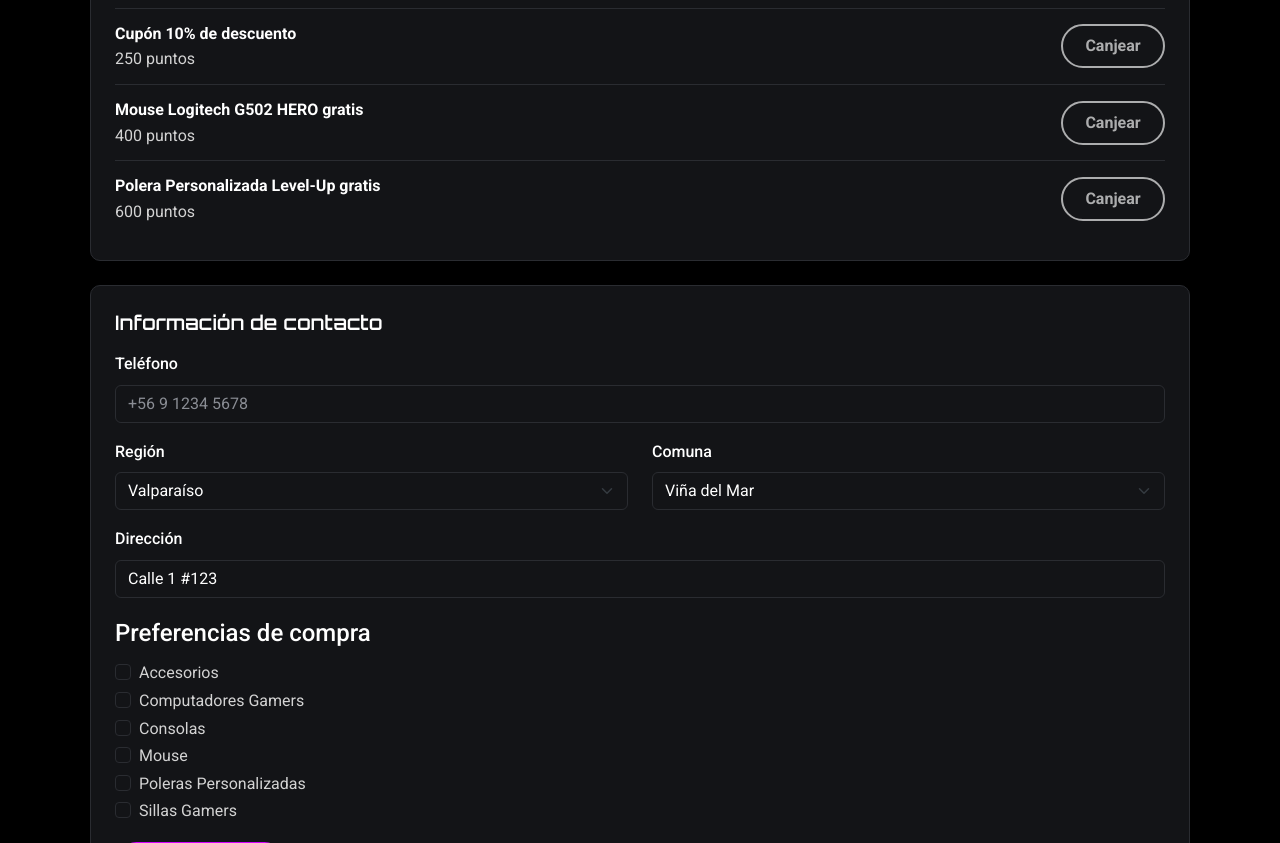
<Perfil /> (perfil, fidelización y edición de datos) › guardar cambios actualiza teléfono, dirección, ubicación y preferencias
The width and height of the screenshot is (1280, 843).
(page scrolled)
In the field labelled "Teléfono": (640, 404) [115, 385, 1165, 423], type " +56 9 1111 2222 "
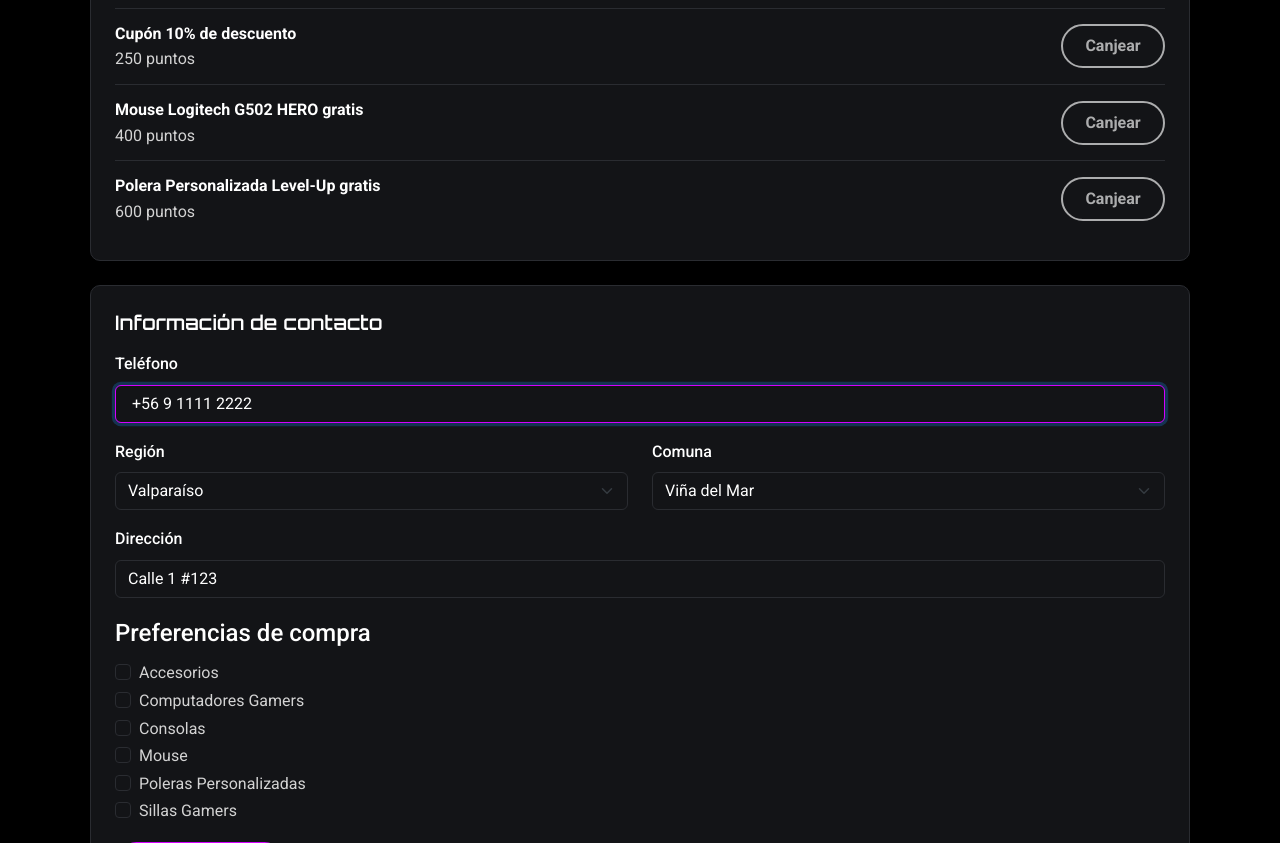
Replace the text in the field labelled "Dirección" with "Nueva 456": (640, 579) [115, 560, 1165, 598]
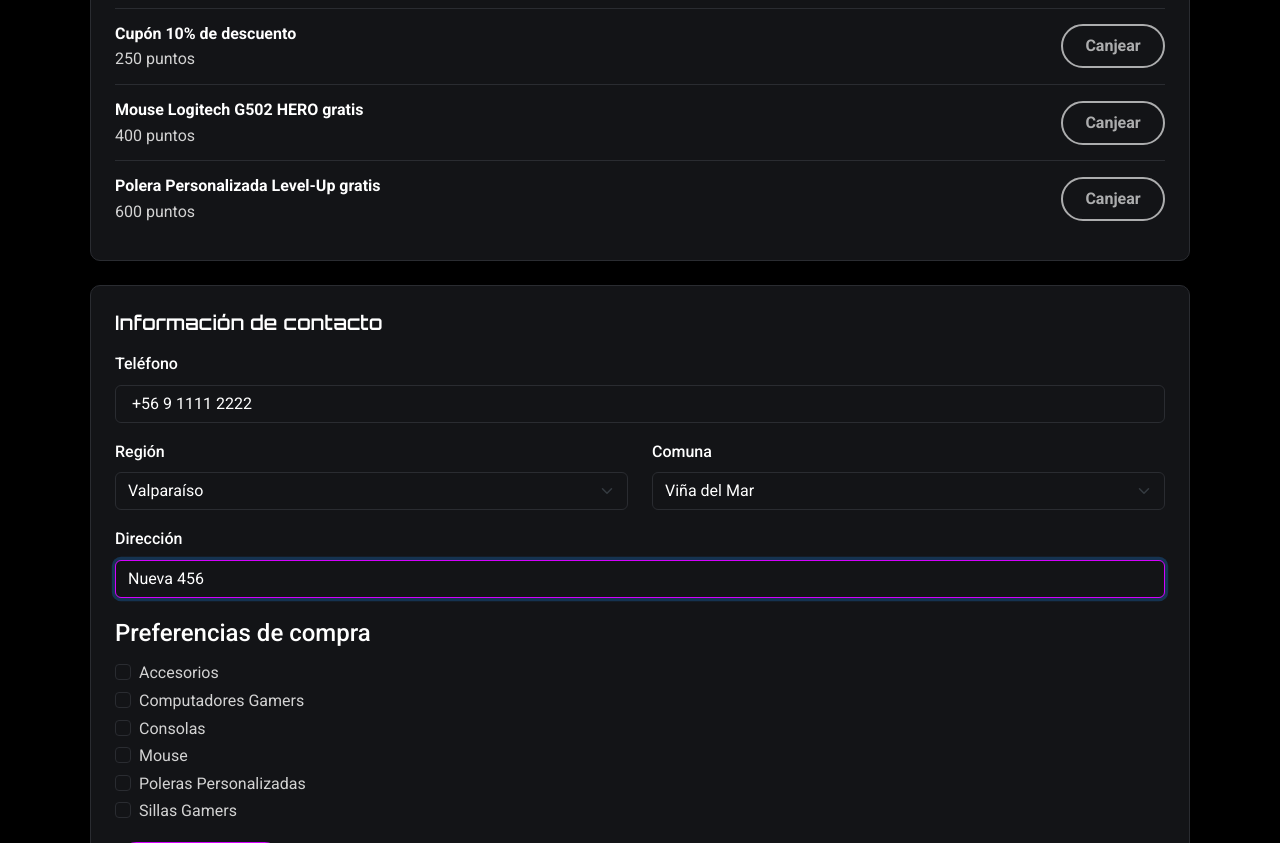
Select "Coquimbo" in the dropdown labelled "Región": (372, 492) [115, 472, 628, 510]
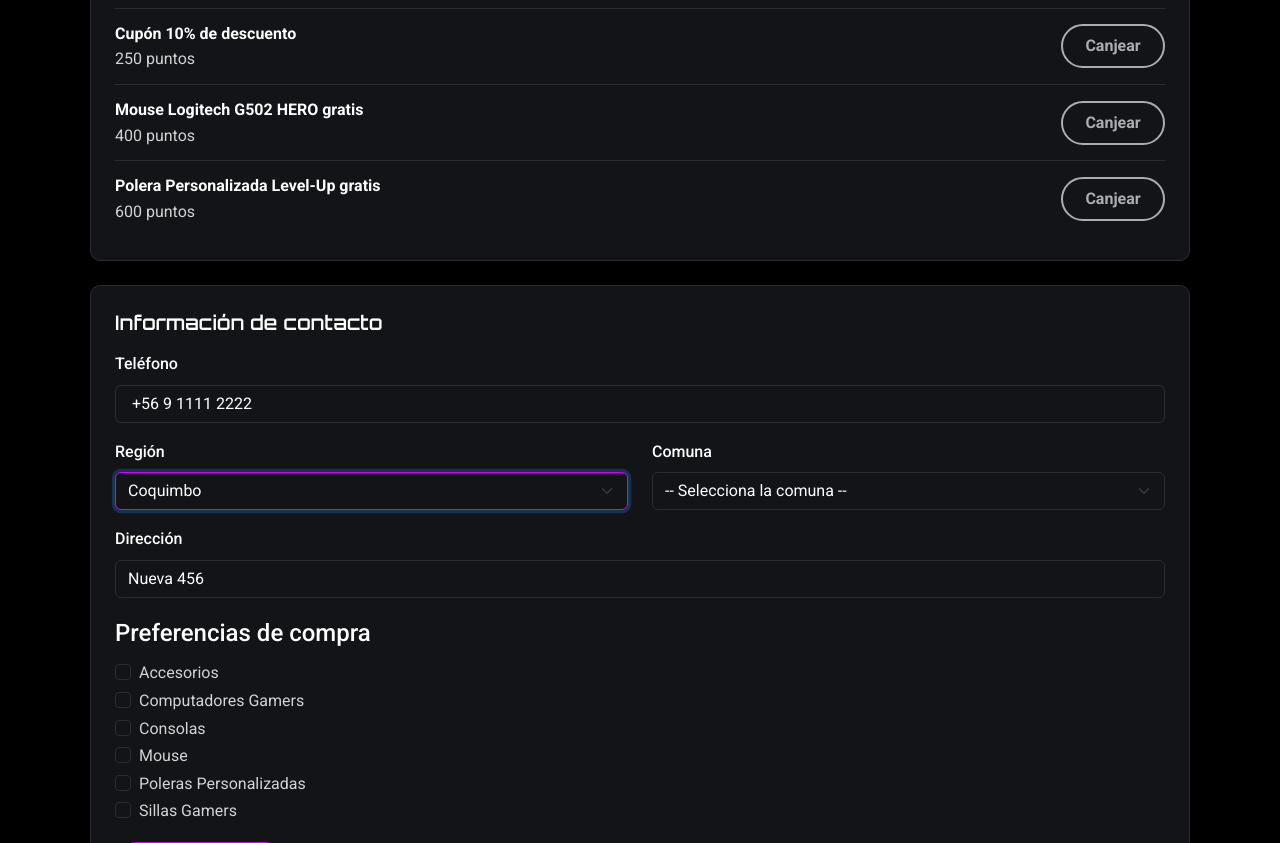
Select "La Serena" in the dropdown labelled "Comuna": (908, 492) [652, 472, 1165, 510]
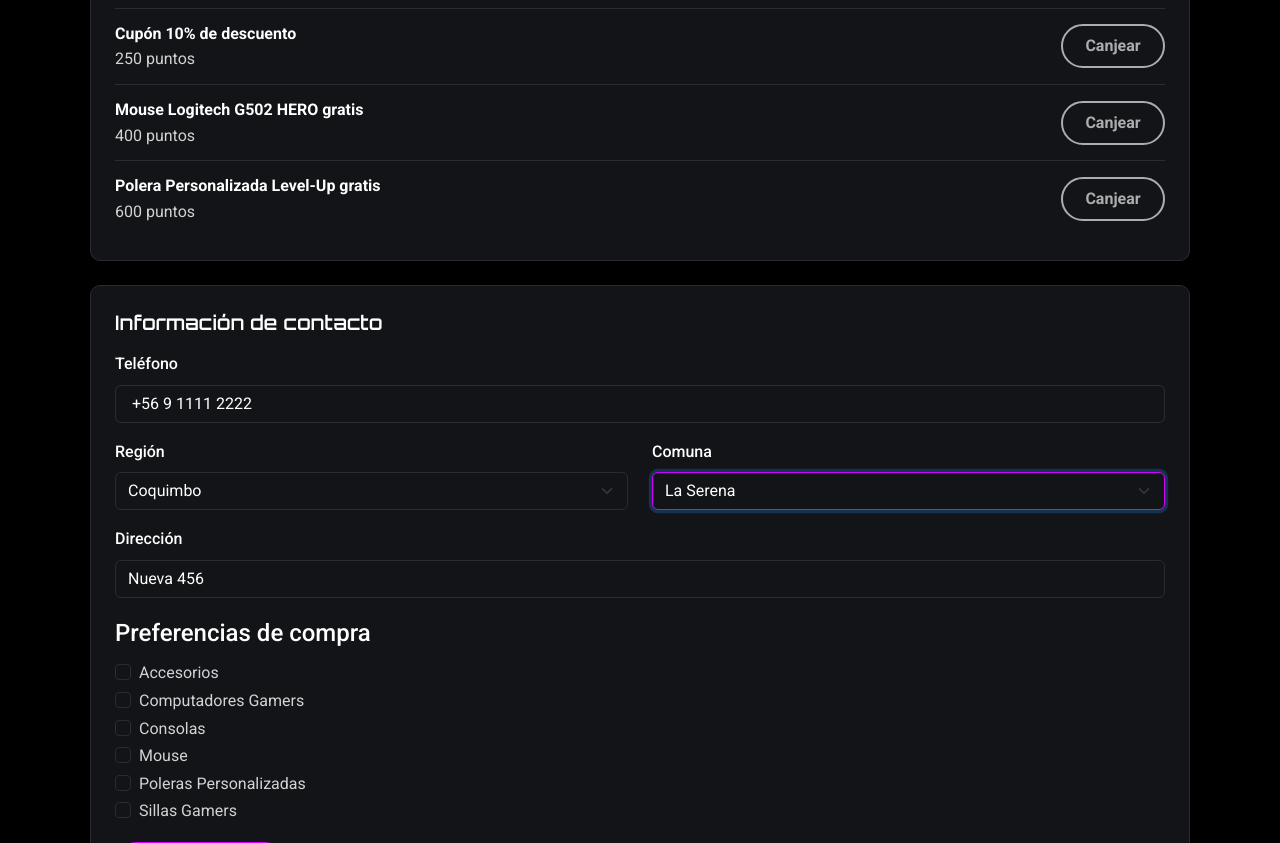
Click the checkbox labelled "Mouse": (123, 755) [115, 747, 131, 763]
(page scrolled)
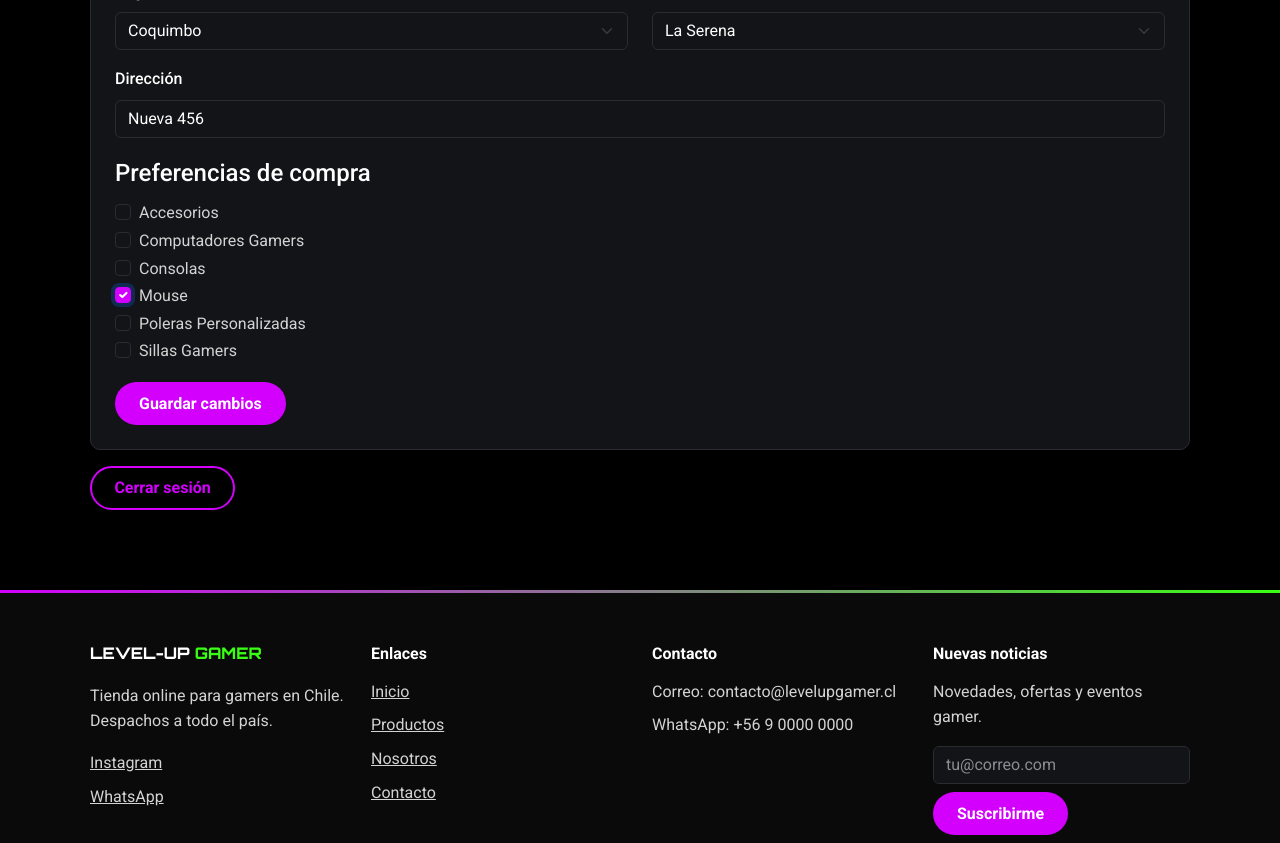
Click the button "Guardar cambios": (200, 404) [115, 382, 286, 425]
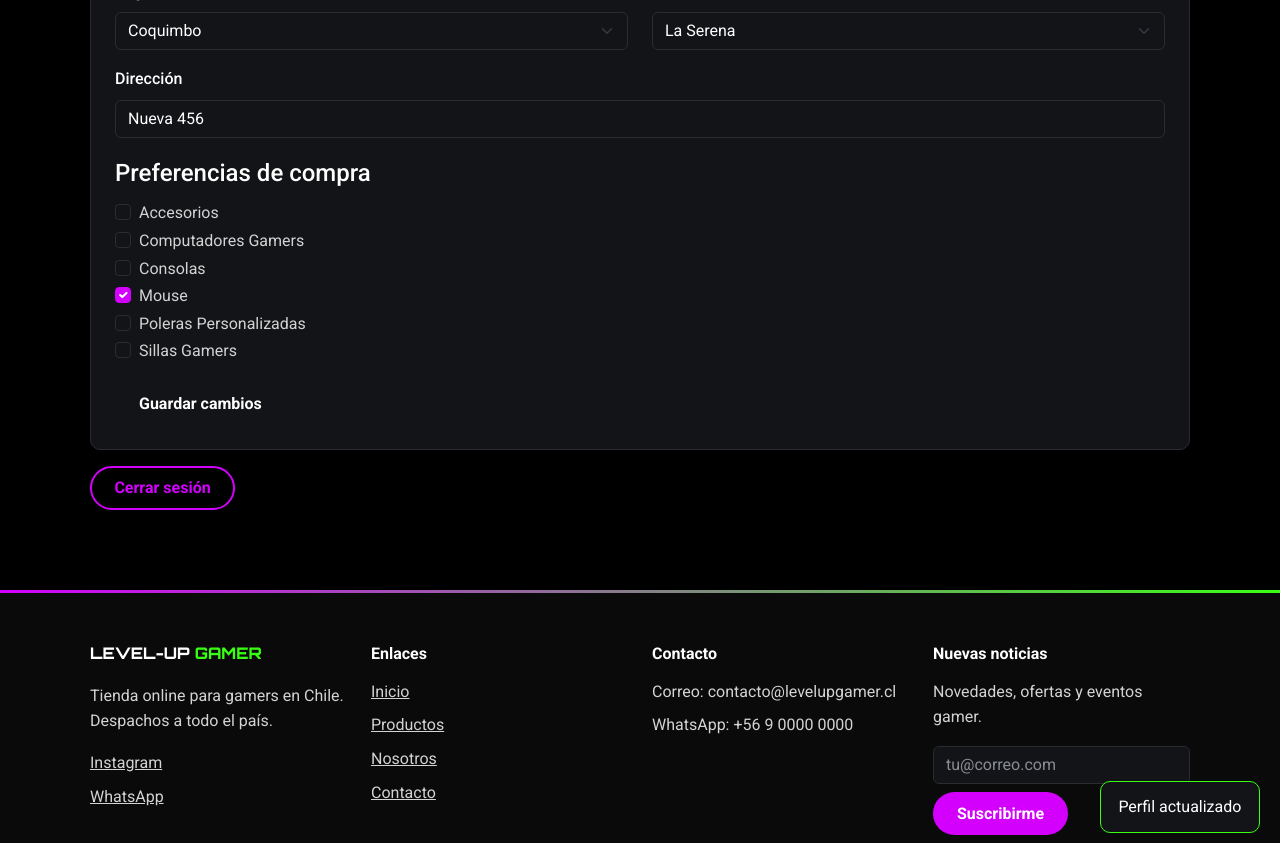
Expected: the text "Perfil actualizado" is shown, [1100, 781, 1260, 833]
